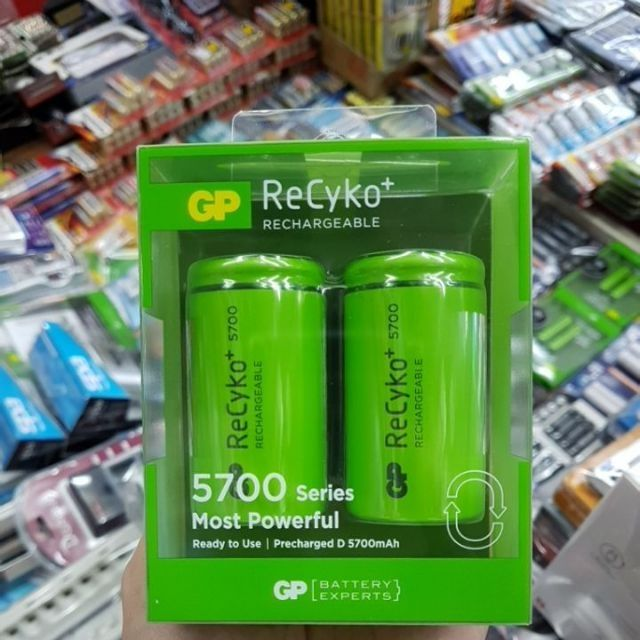Battery: (338, 246, 491, 526), (183, 251, 332, 529)
